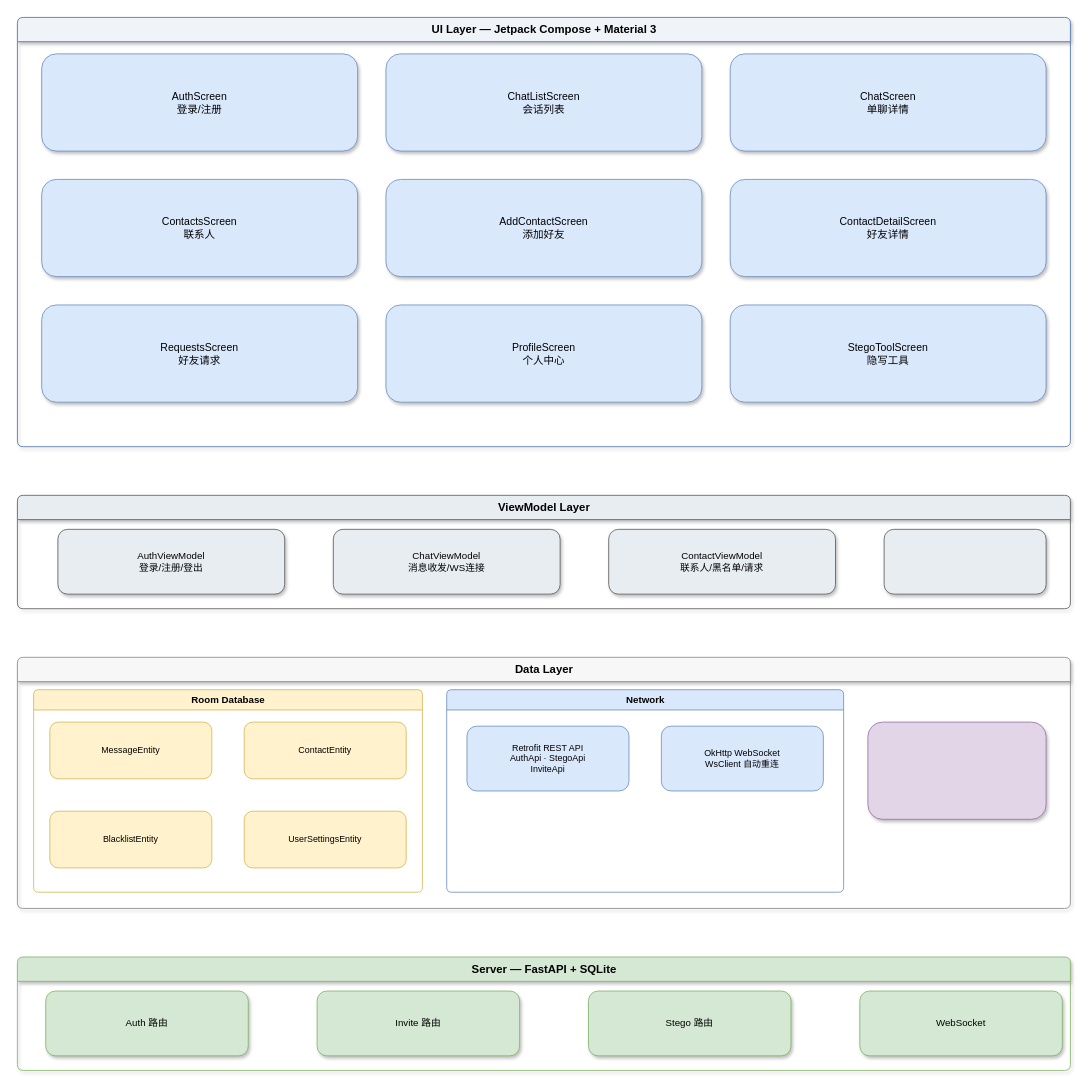
Image size: 1089x1090. Some labels were removed from this diagram. The shapes that lost their labels are listed below. From the top down, each one's centre as x and y in pixels, then its label:
[965,562]: ProfileViewModel 用户信息
[957,771]: Crypto AES-256-GCM PBKDF2 + HKDF
